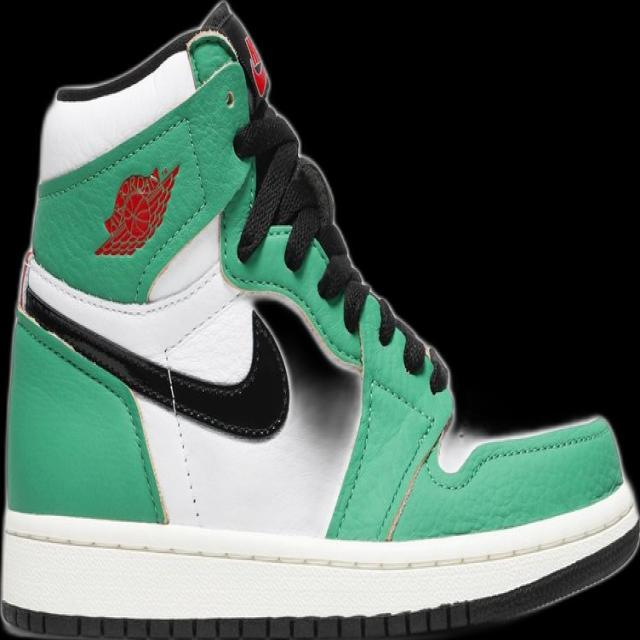J1_InsoleChar: (0, 0, 639, 639)
J1_ShoeLogo: (93, 162, 181, 257)
J1_StitchPattern: (187, 25, 452, 398), (0, 501, 638, 638), (16, 255, 291, 441), (19, 274, 222, 524), (2, 508, 637, 576), (329, 285, 454, 541), (0, 599, 471, 639), (379, 415, 452, 543), (368, 289, 451, 396), (160, 356, 205, 524), (157, 289, 245, 367), (183, 27, 242, 89)
